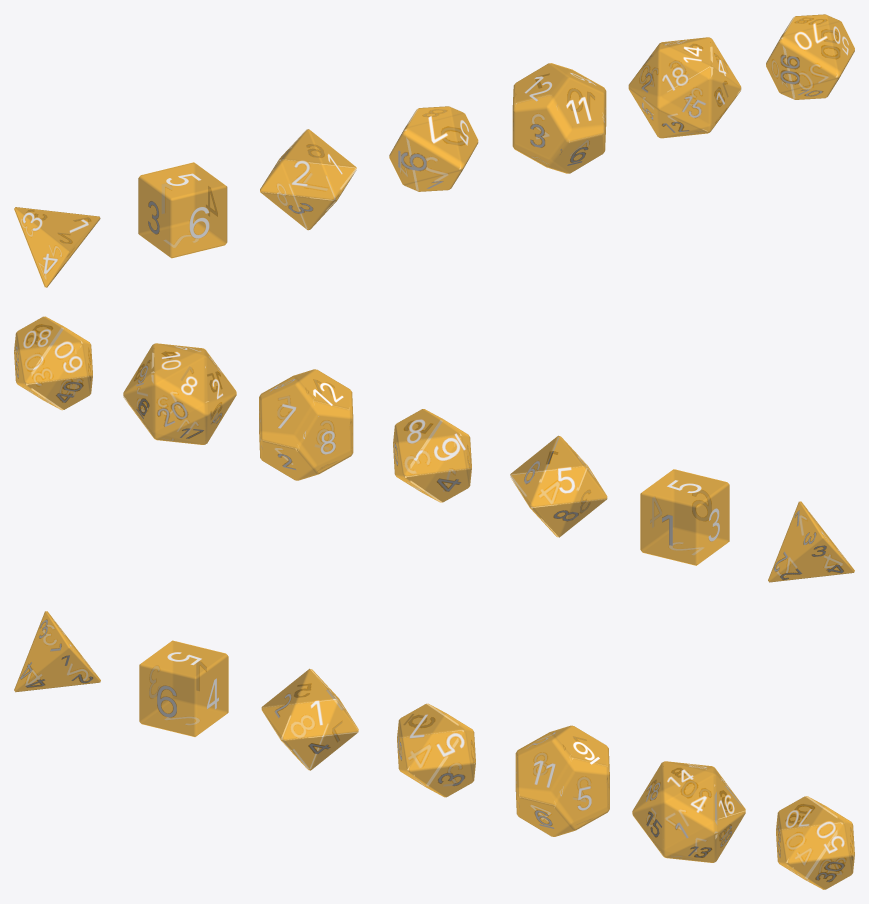
Rendered from clear_orange_diceset.glb.
3 views of the same model, one above another, from view 1: azimuth 30°, elevation 25°; view 2: azimuth 150°, elevation 25°; view 3: azimuth 330°, elevation 25° (orthographic).
Visible parts, largest first — view 1: d12, d20, d6, d10, d100, d8, d4; view 2: d12, d20, d6, d100, d10, d8, d4; view 3: d12, d20, d6, d10, d100, d8, d4.
Boxes of the visible parts, x1,y1,x2,y2 form: d12: (512, 63, 606, 173); d20: (628, 37, 741, 138); d6: (138, 162, 227, 258); d10: (389, 106, 478, 191); d100: (766, 14, 854, 99); d8: (260, 129, 356, 230); d4: (14, 207, 100, 287); d12: (259, 369, 353, 480); d20: (123, 343, 236, 444); d6: (640, 469, 729, 565); d100: (14, 316, 92, 410); d10: (393, 409, 471, 502); d8: (510, 435, 607, 537); d4: (768, 501, 854, 582); d12: (515, 725, 609, 836); d20: (632, 761, 745, 862); d6: (139, 640, 228, 736); d10: (397, 703, 475, 797); d100: (776, 796, 854, 889); d8: (261, 669, 358, 770); d4: (14, 611, 100, 692).
Bounding box in the file's own units: 16.37 × 1.89 × 1.89.
Materials: 7 (7 with a texture image).
